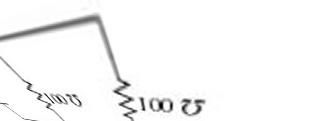resistor: (19, 73, 50, 113), (104, 73, 128, 114)
